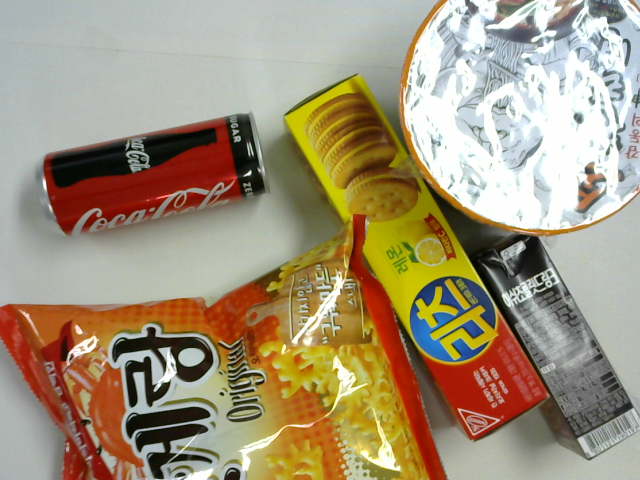Coca_Cola_Zero_Can_250ml: (38, 111, 272, 239)
Crabrang: (1, 212, 448, 480)
Hejangchan: (396, 2, 640, 237)
Hush_Choco_Drink: (473, 232, 640, 461)
Ritz_Remon_96g: (280, 74, 554, 442)
